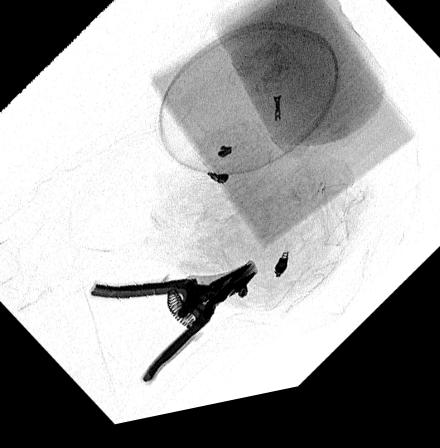Pliers: (87, 269, 261, 395)
